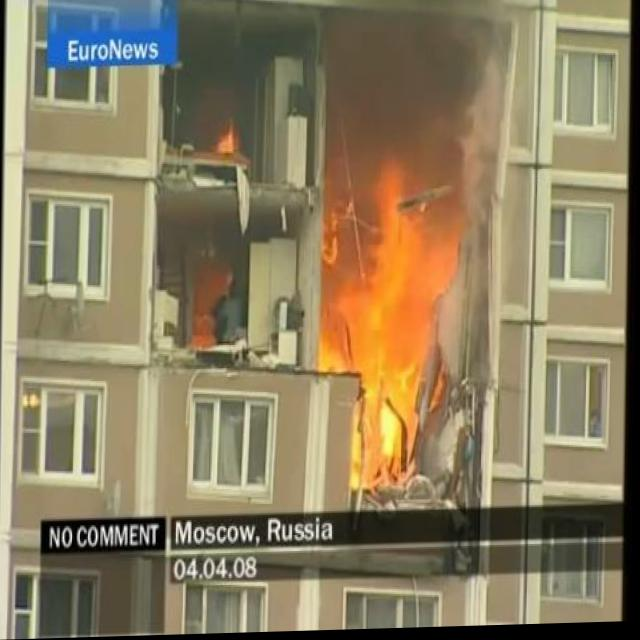fire: (315, 160, 441, 485), (217, 121, 237, 160)
